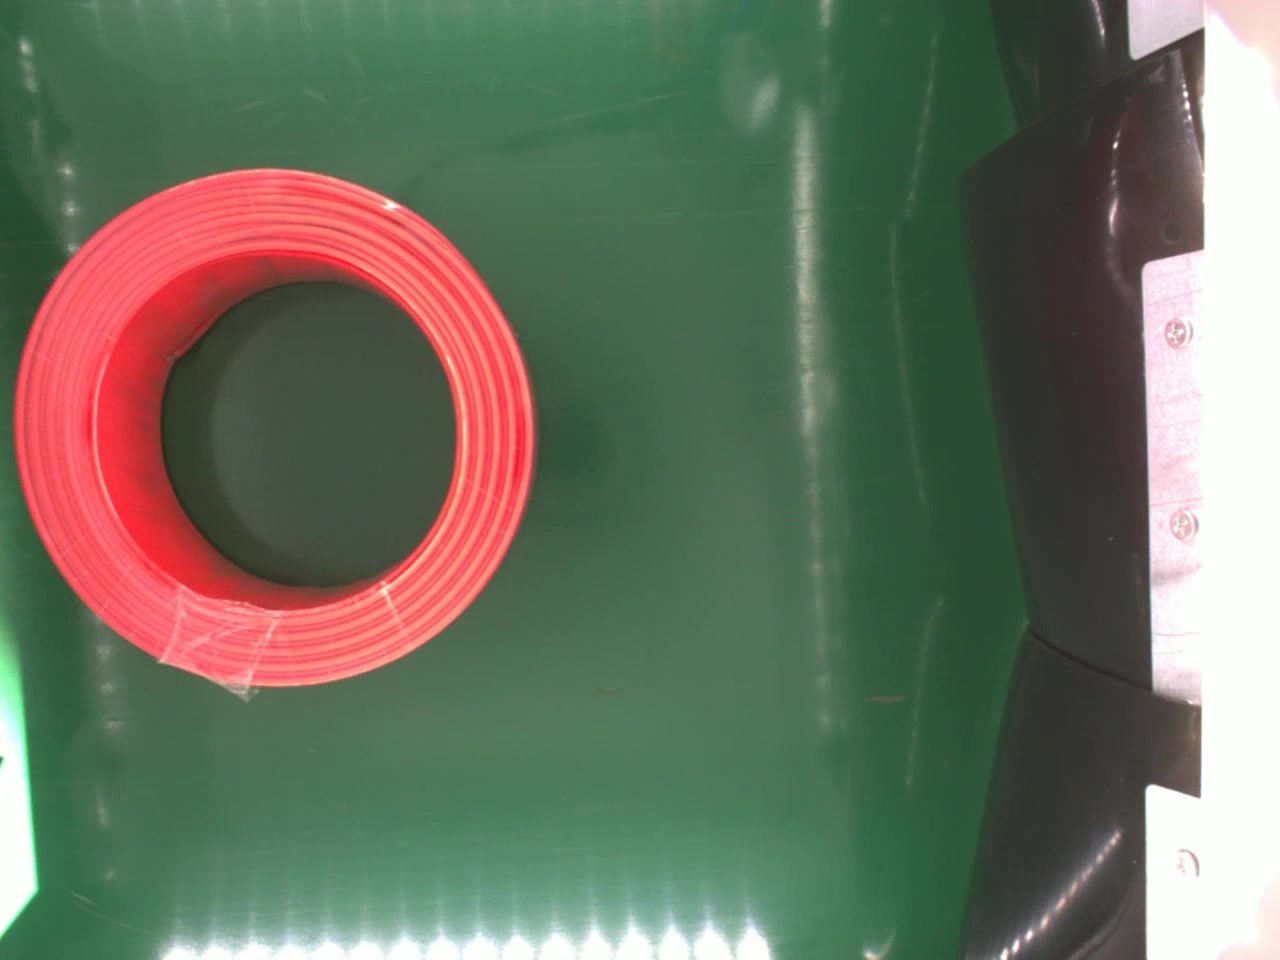red: (15, 164, 535, 686)
